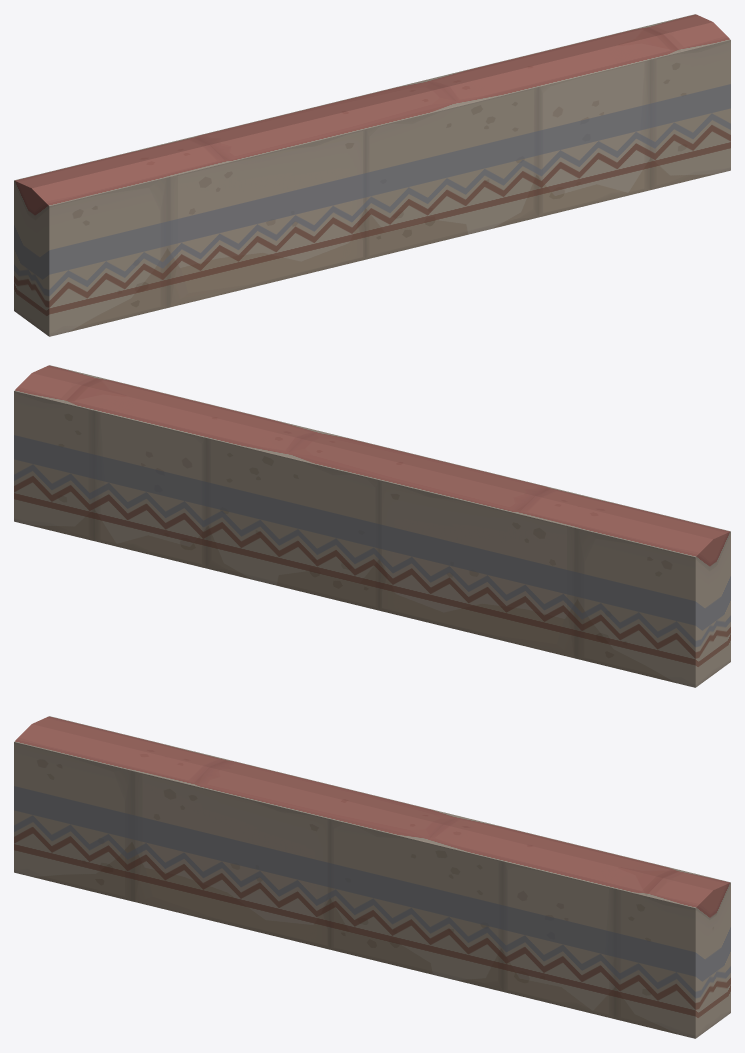
Rendered from SM_Bld_Wall_Balcony_01.fbx.
3 views of the same model, one above another, from view 1: azimuth 30°, elevation 25°; view 2: azimuth 150°, elevation 25°; view 3: azimuth 330°, elevation 25° (orthographic).
Parts seen in each view (by area): view 1: SM_Bld_Wall_Balcony_01; view 2: SM_Bld_Wall_Balcony_01; view 3: SM_Bld_Wall_Balcony_01.
Boxes of the visible parts, <box> form: SM_Bld_Wall_Balcony_01: <box>14,14,730,336</box>; SM_Bld_Wall_Balcony_01: <box>14,365,730,687</box>; SM_Bld_Wall_Balcony_01: <box>14,716,730,1038</box>.
Bounding box in the file's own units: 250 × 47.52 × 22.5.
